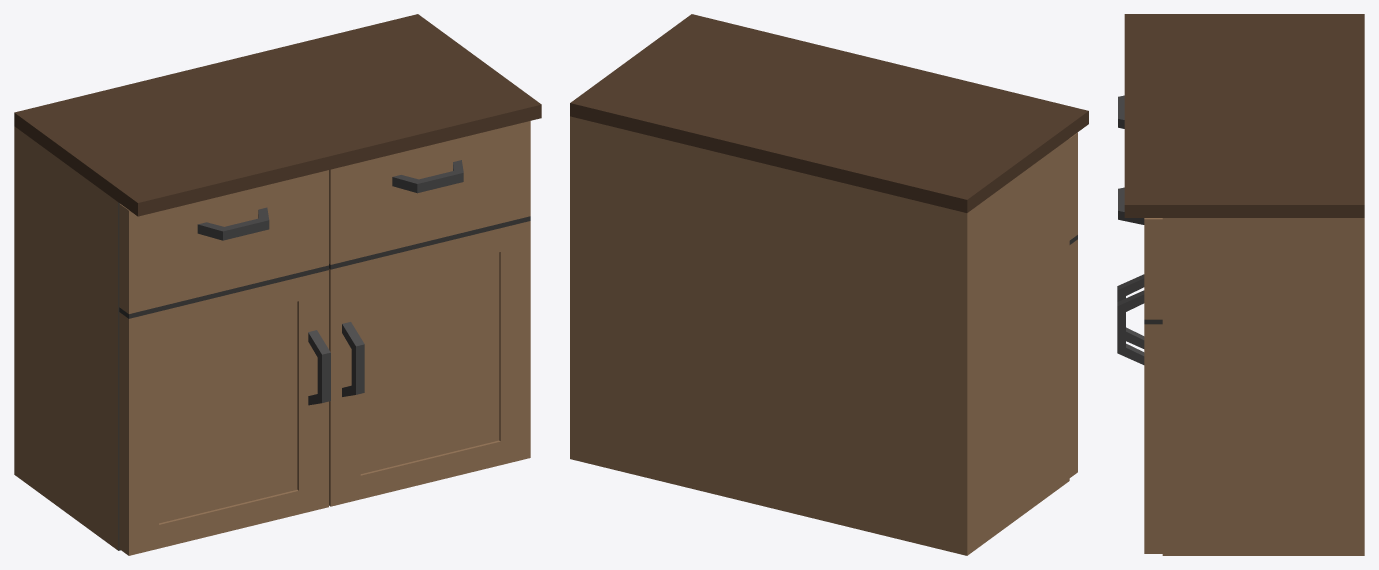
File: Kitchen_Cabinet_4B.fbx
3 renders of one model, left to right at view 1: azimuth 30°, elevation 25°; view 2: azimuth 150°, elevation 25°; view 3: azimuth 270°, elevation 25°, orthographic. The views are drawn at different scales.
Parts seen in each view (by area): view 1: polySurface2171; view 2: polySurface2171; view 3: polySurface2171.
Boxes of the visible parts, x1,y1,x2,y2 form: polySurface2171: [14, 14, 541, 555]; polySurface2171: [570, 14, 1088, 555]; polySurface2171: [1117, 14, 1364, 555].
Bounding box in the file's own units: 1.56 × 1.34 × 0.8527.
Materials: 1 (1 with a texture image).
